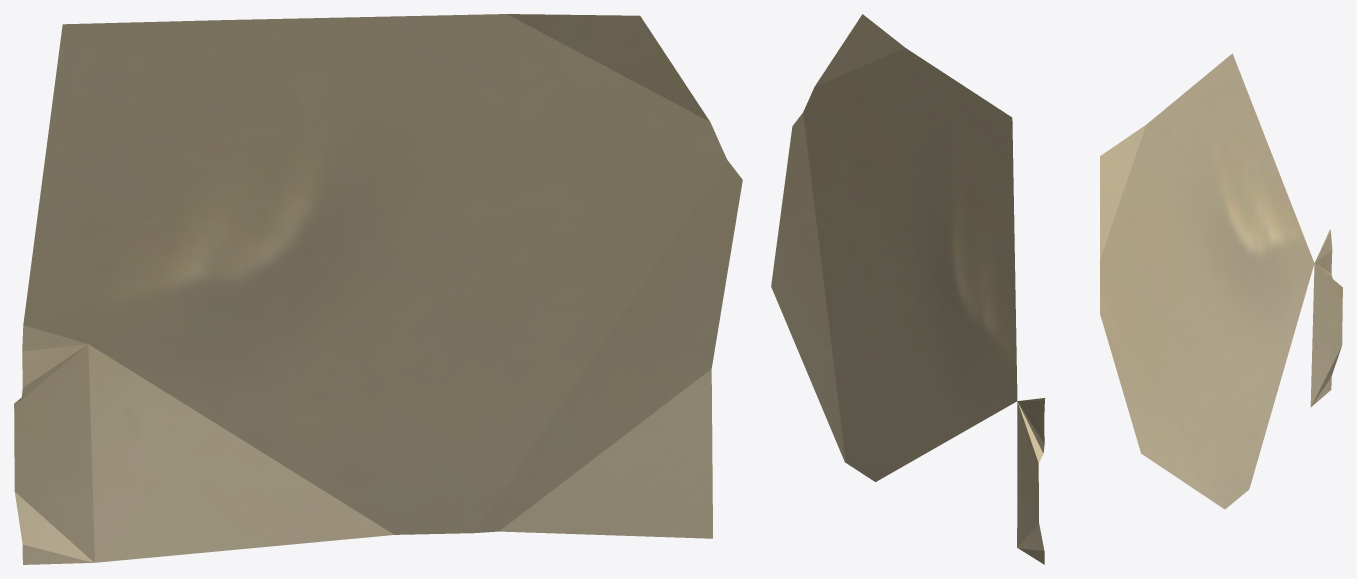
3 renders of one model, left to right at view 1: azimuth 30°, elevation 25°; view 2: azimuth 150°, elevation 25°; view 3: azimuth 270°, elevation 25°, orthographic. The views are drawn at different scales.
Bounding box in the file's own units: 0.8373 × 0.8374 × 0.4906.
3 materials, 3 textured.
